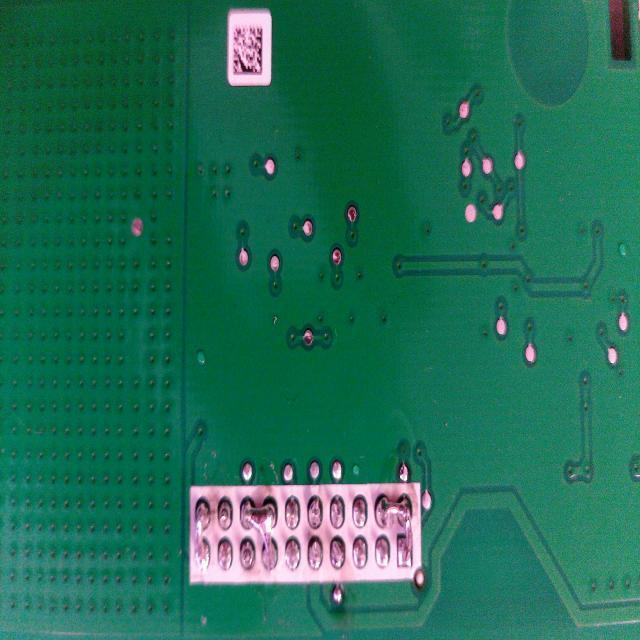Soldering shorted: (238, 497, 282, 583), (376, 490, 420, 571), (191, 494, 216, 574)
